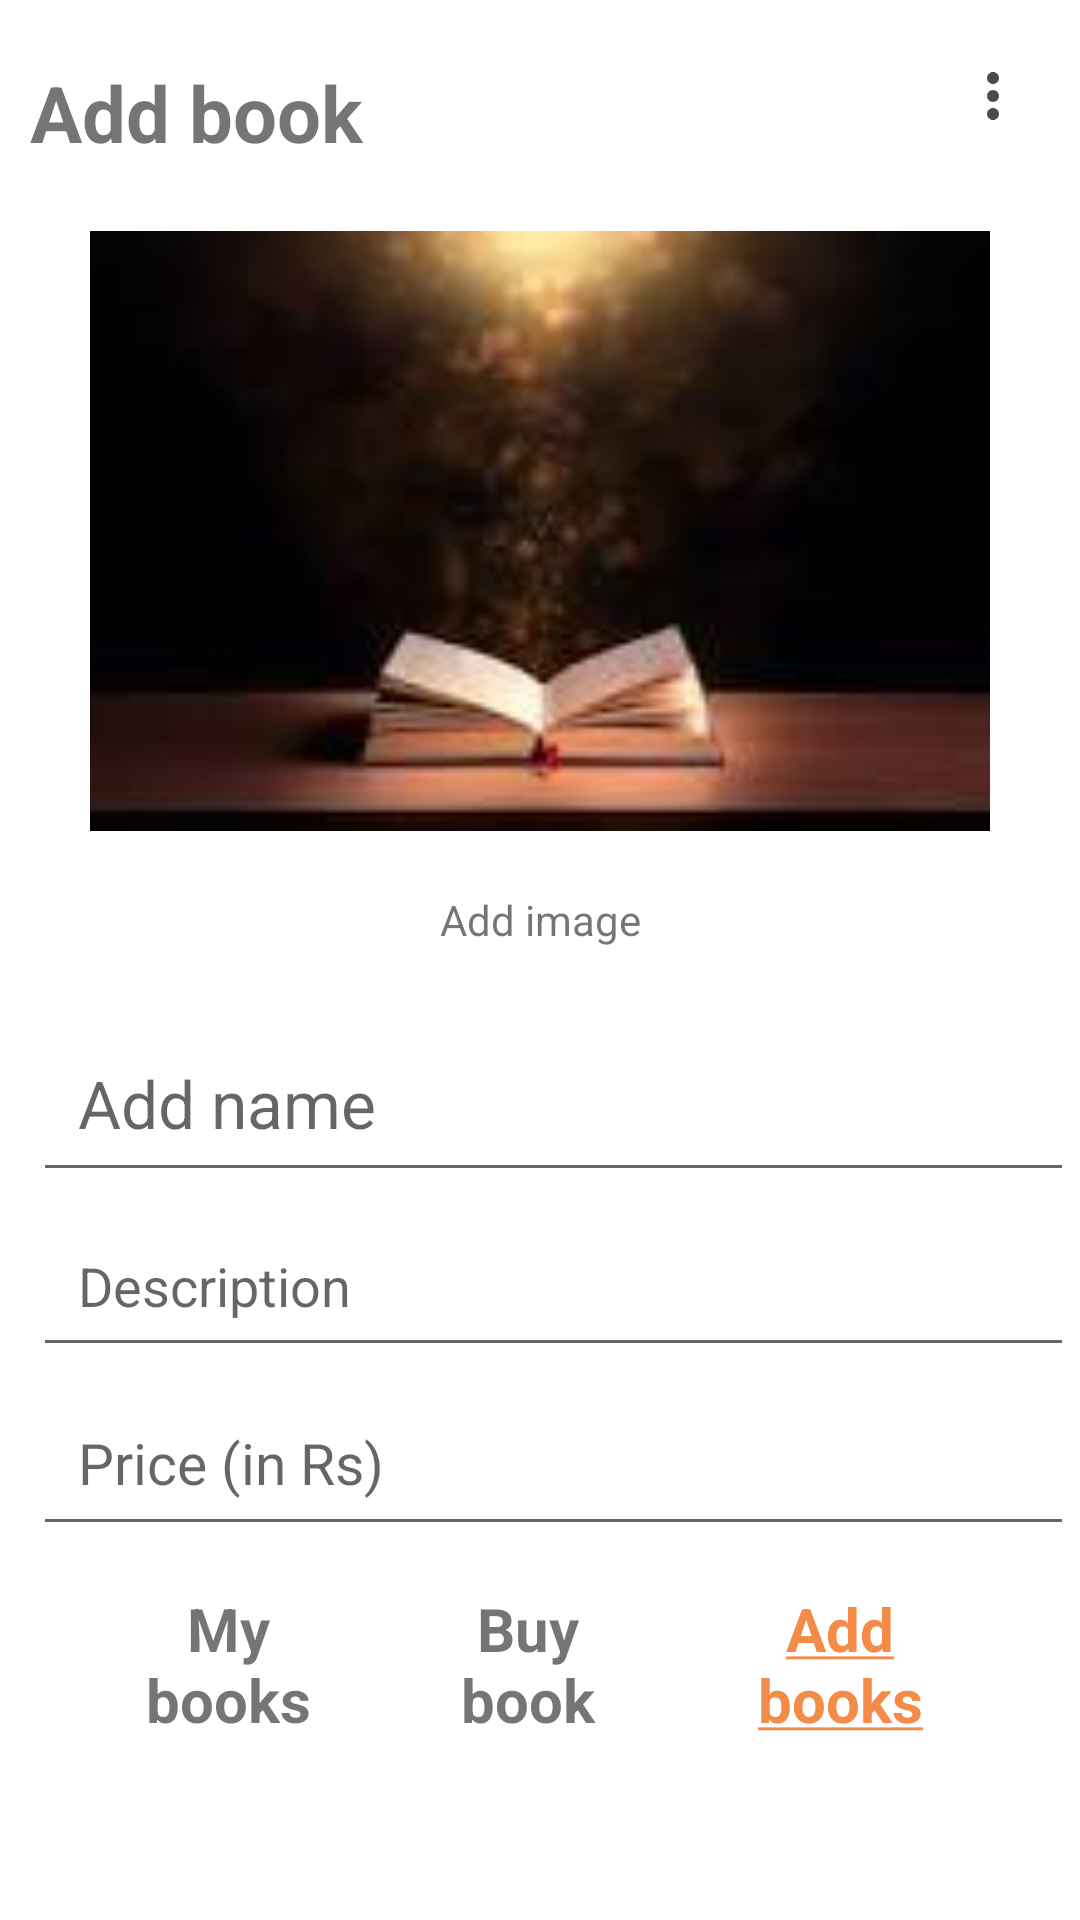

Icons on this 1080px x 1920px Android screen, each with the point to tap as [x,y]:
menu: [993,96]
